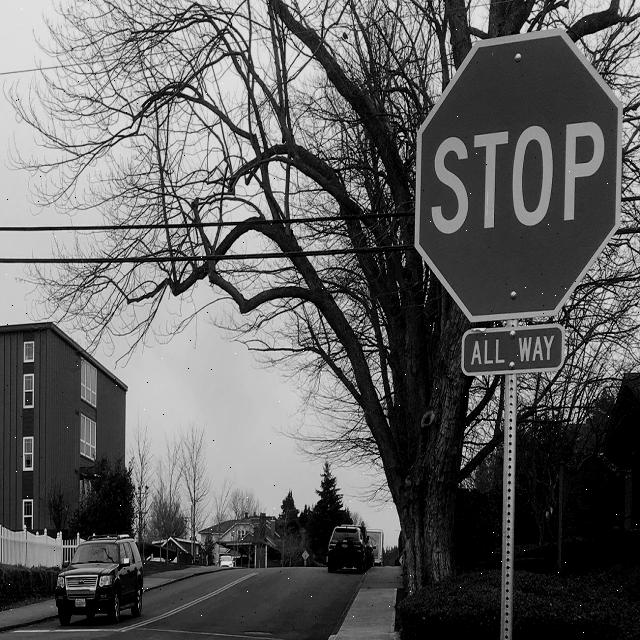Stop-sign: (404, 20, 637, 327)
